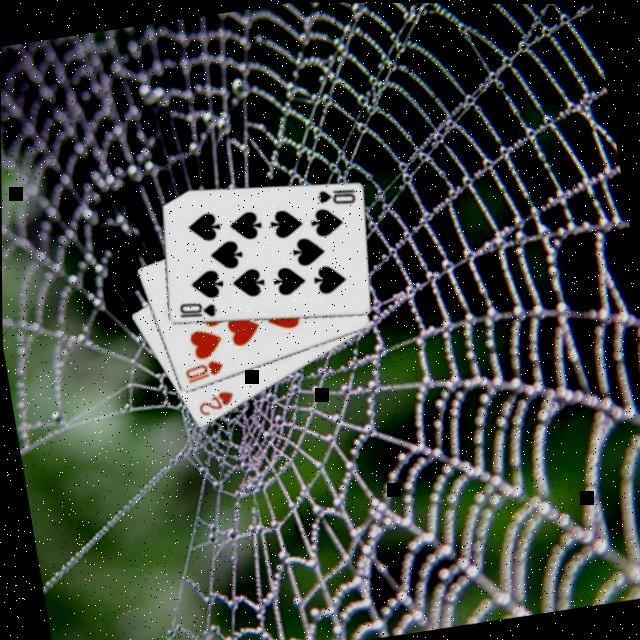10H: (182, 357, 229, 388)
10S: (176, 297, 222, 326), (315, 184, 361, 212)
2H: (195, 388, 241, 422)
